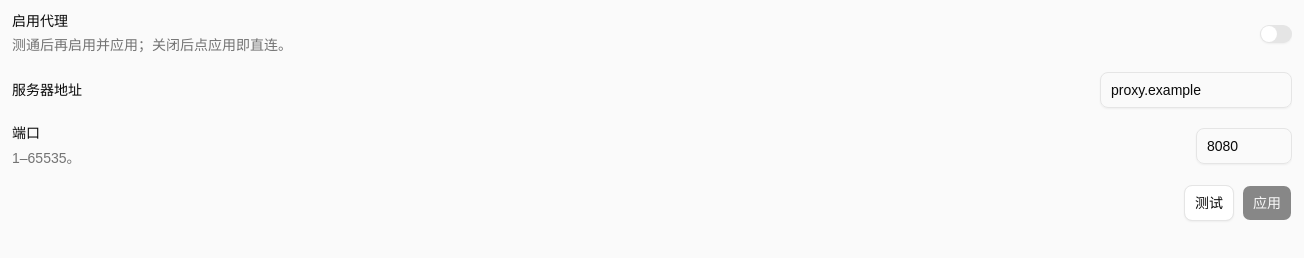
shows test failure without enabling the switch
expect the field labelled "服务器地址" is enabled: met, box [1100,72,1292,108]
Click the button "测试" at (1209, 202), box [1184,184,1234,220]
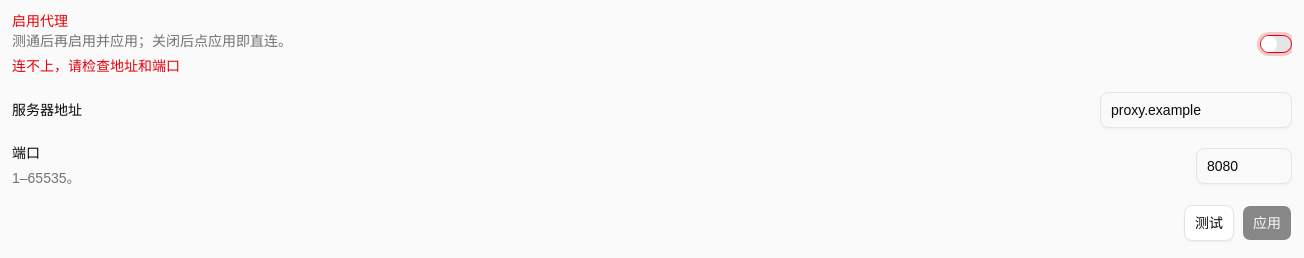
expect the button "应用" is disabled: met, box [1242,204,1292,240]
expect the message reads "连不上，请检查地址和端口": met, box [12,58,180,74]
